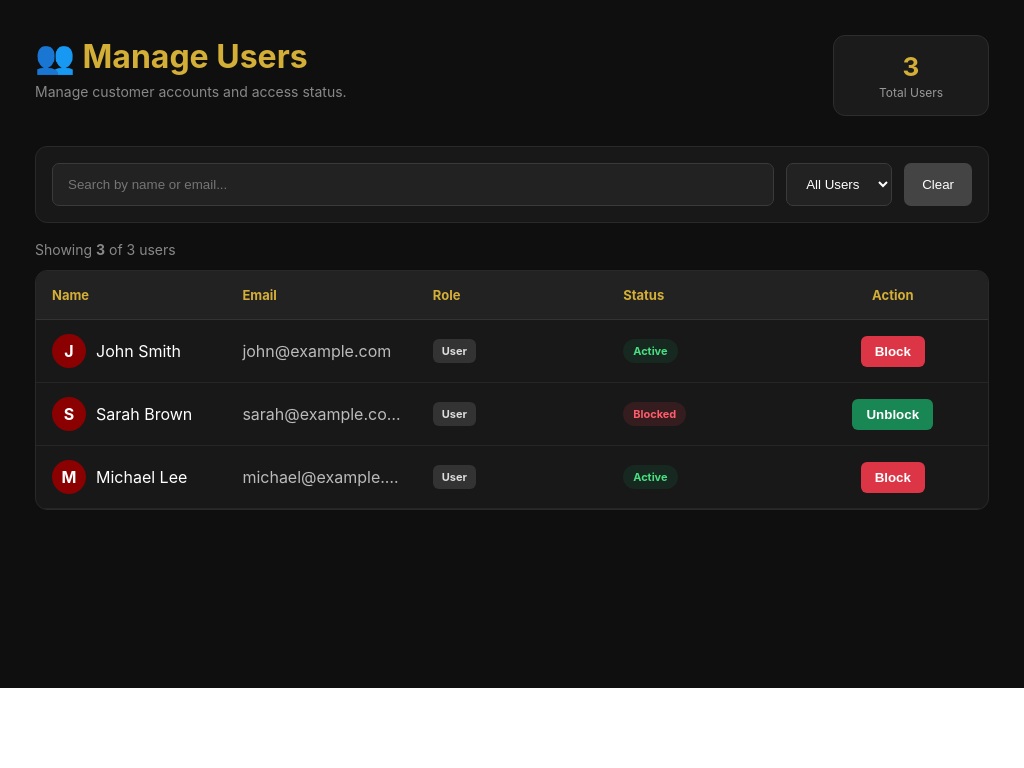
Scenario: searches users by name
Expected: the text "John Smith" is shown, [96,341,181,361]
Type "Sarah" into the field with placeholder "Search by name or email..." at coordinates (413, 184), box [52,163,774,206]
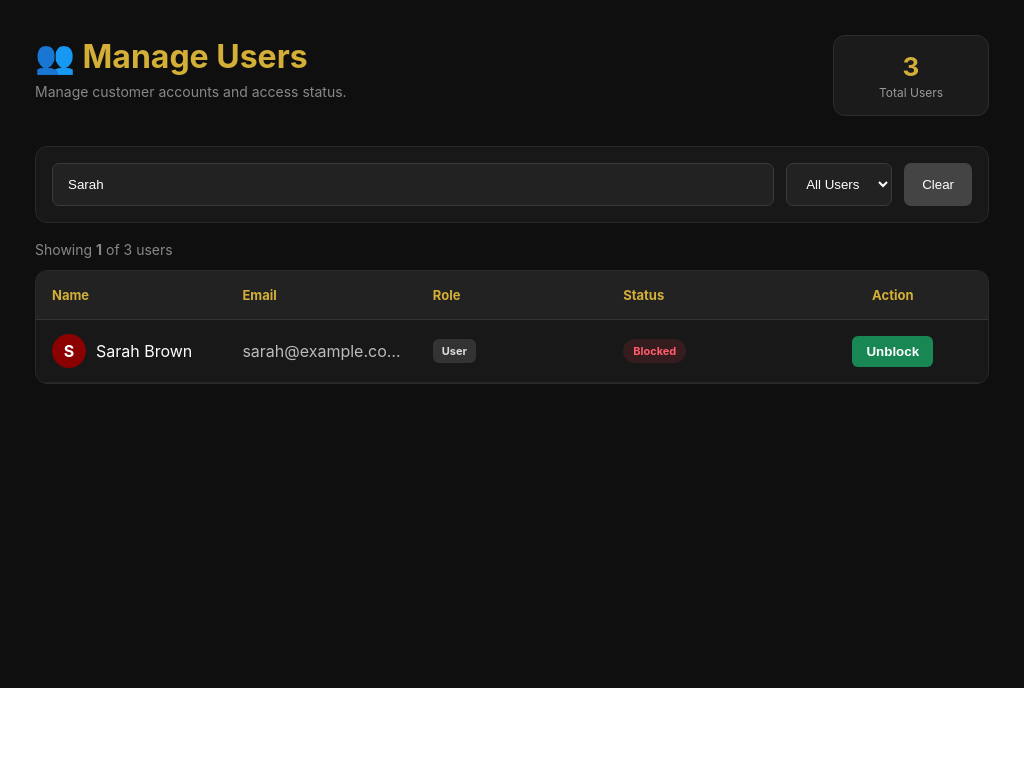
Expected: the text "Sarah Brown" is shown, [96,341,192,361]
Now the text "John Smith" is gone
